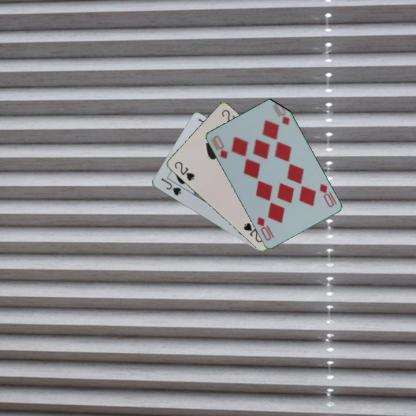10d: (207, 132, 229, 160), (316, 181, 338, 208)
2s: (172, 159, 196, 182)
Js: (158, 175, 182, 197)
